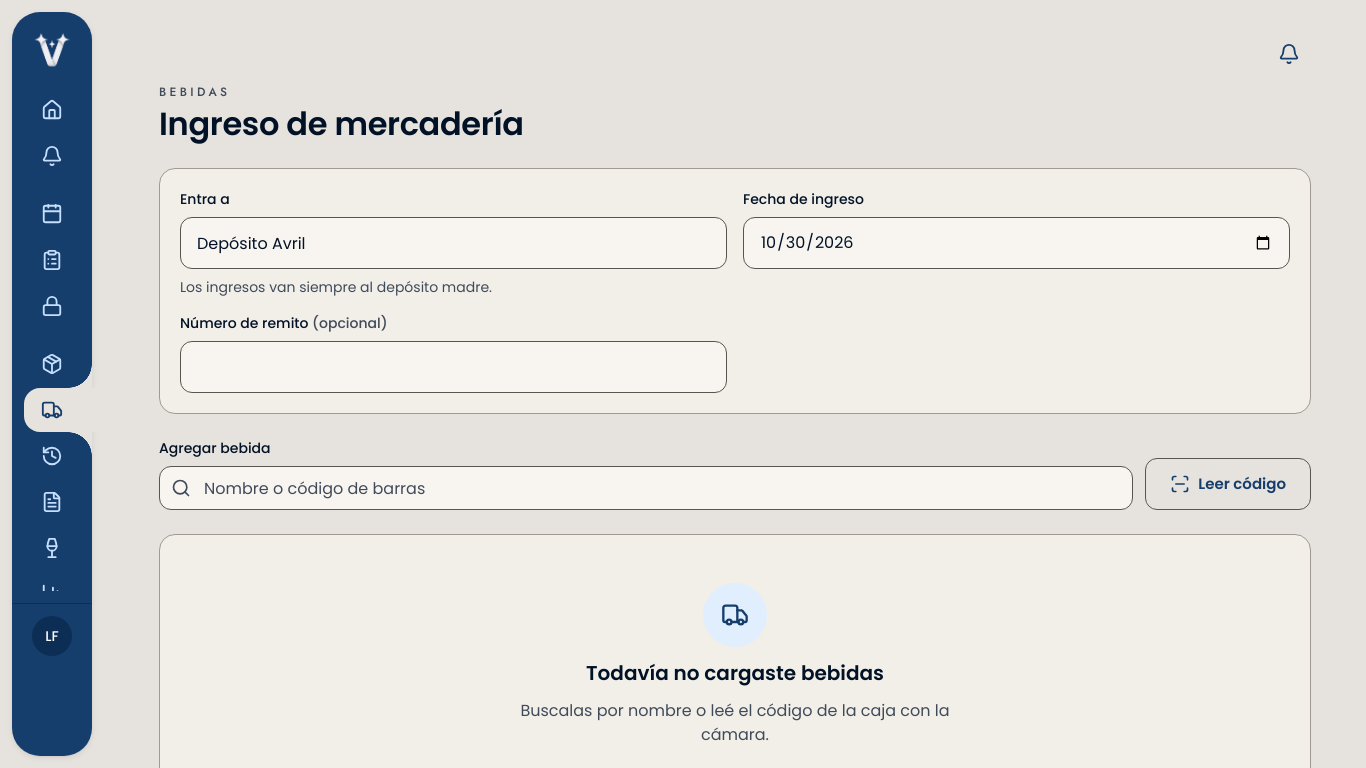
Test: UI-29 · ingreso de mercadería › no deja revisar con una bebida sin cantidad
Expected: the field showing "Depósito Avril" is shown, [180,217,727,269]
Type "quil" into the dropdown labelled "Agregar bebida". click: point(646, 488)
box: [159,466,1133,510]
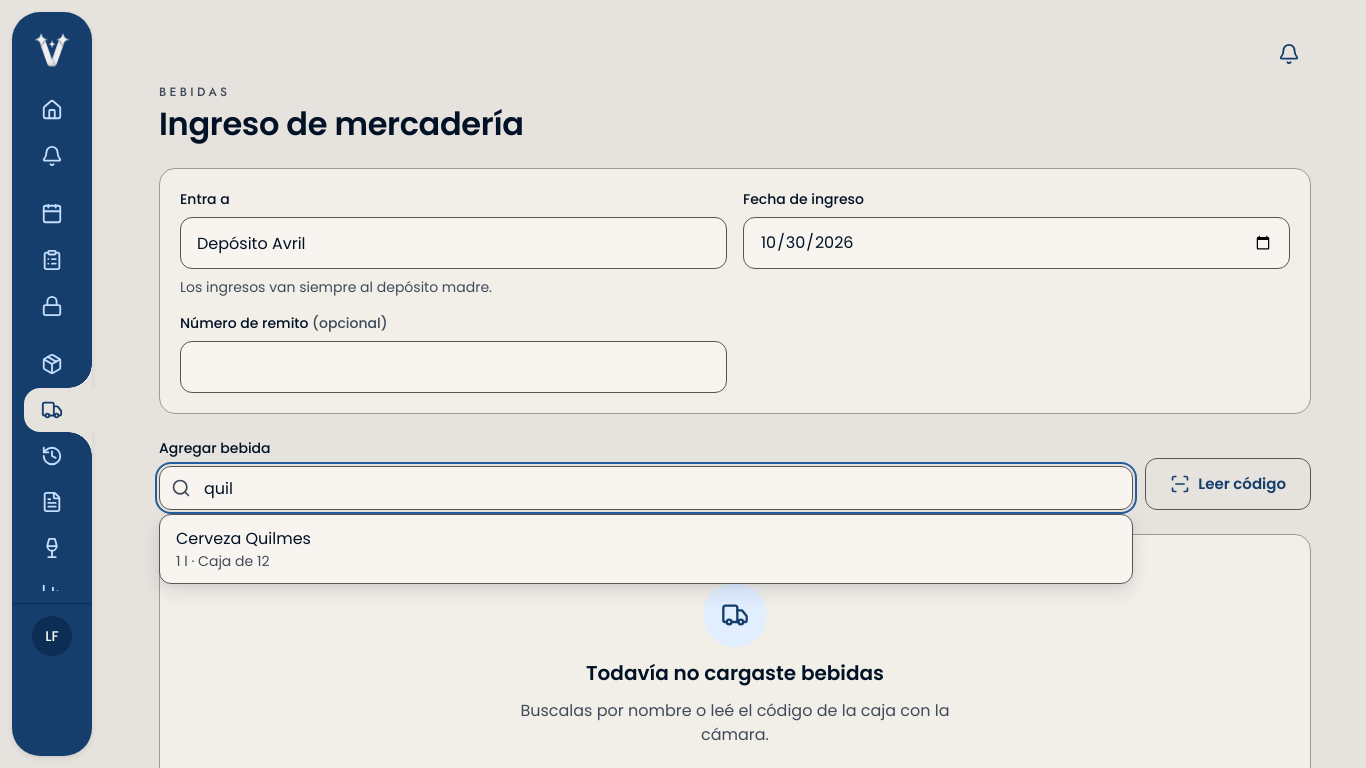
Click the option "Cerveza Quilmes 1 l · Caja de 12". click: point(244, 549)
box: [176,527,311,571]
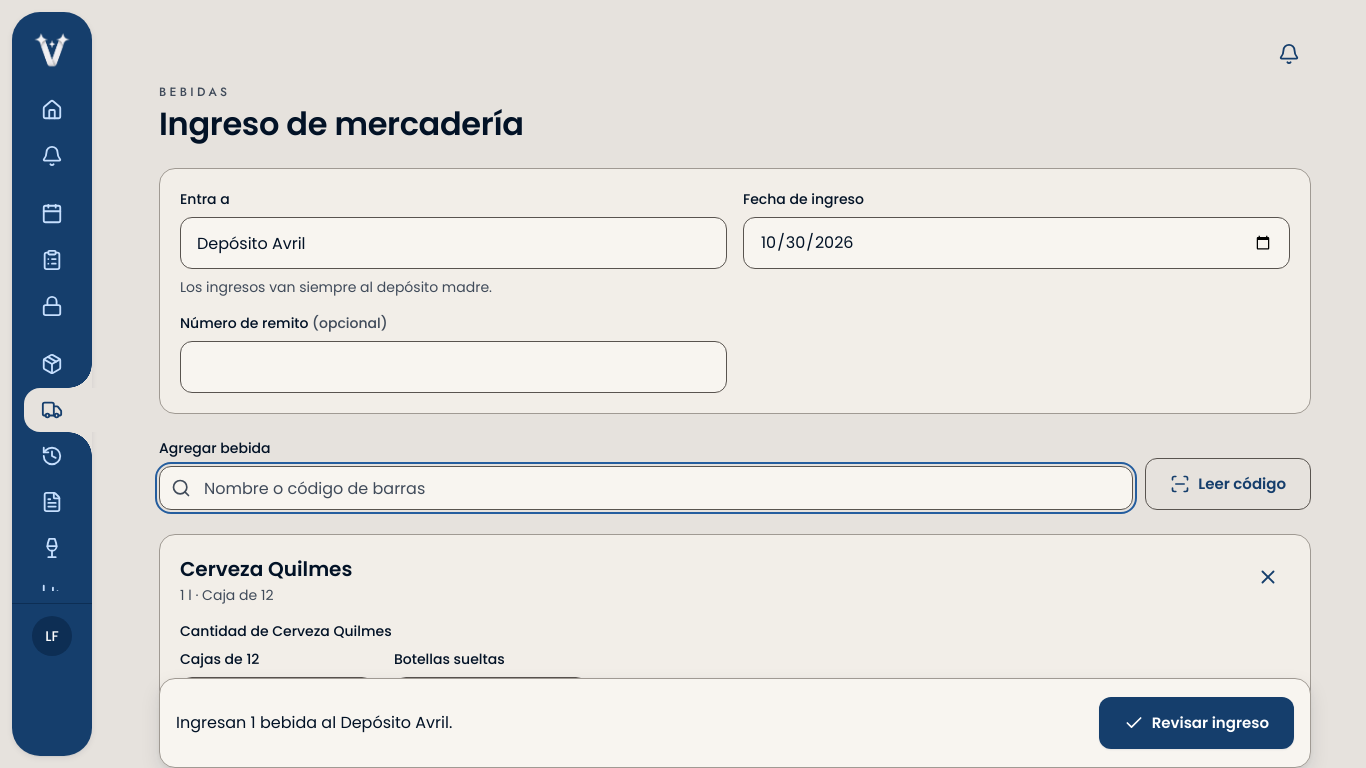
Click the button "Revisar ingreso". click: point(1196, 723)
box: [1099,697,1294,749]
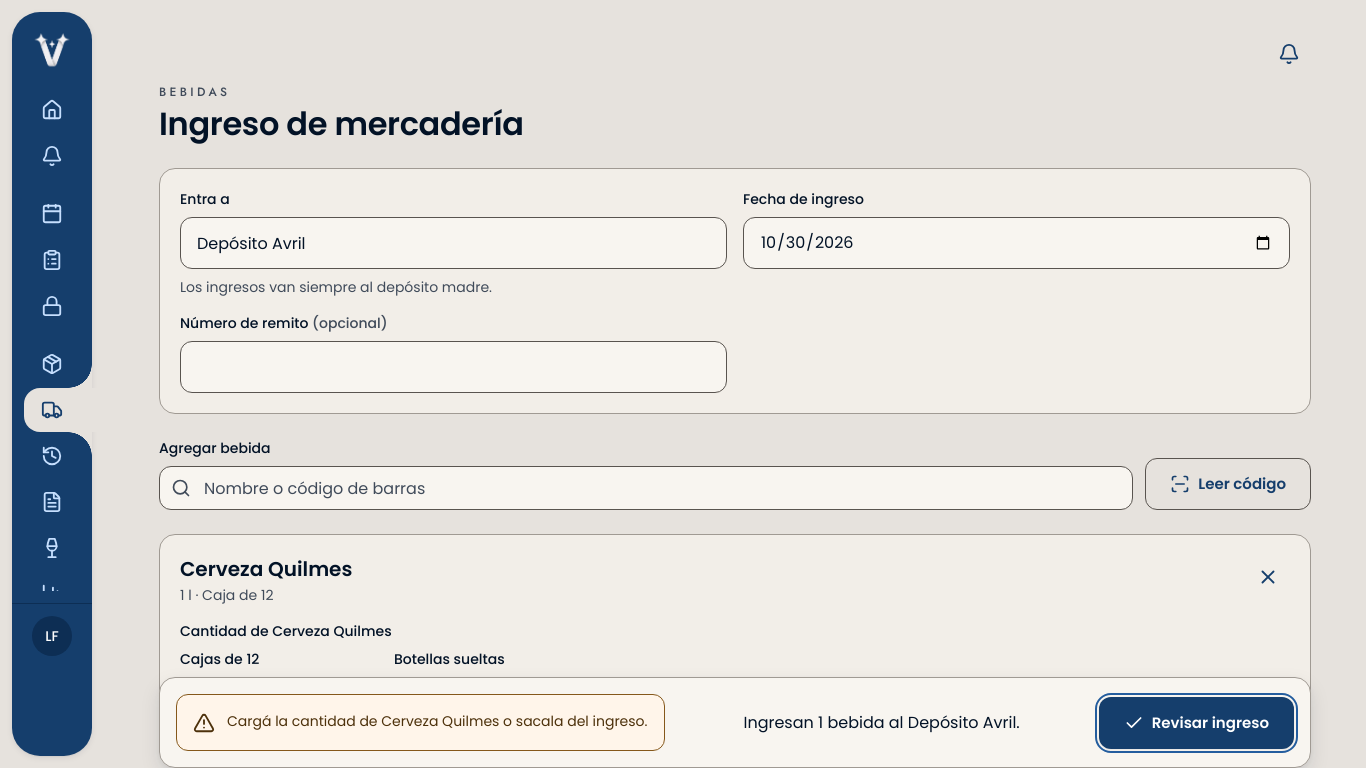
Now the text "Cargá la cantidad de Cerveza Quilmes o sacala del ingreso." is shown, box [227,711,648,731]
